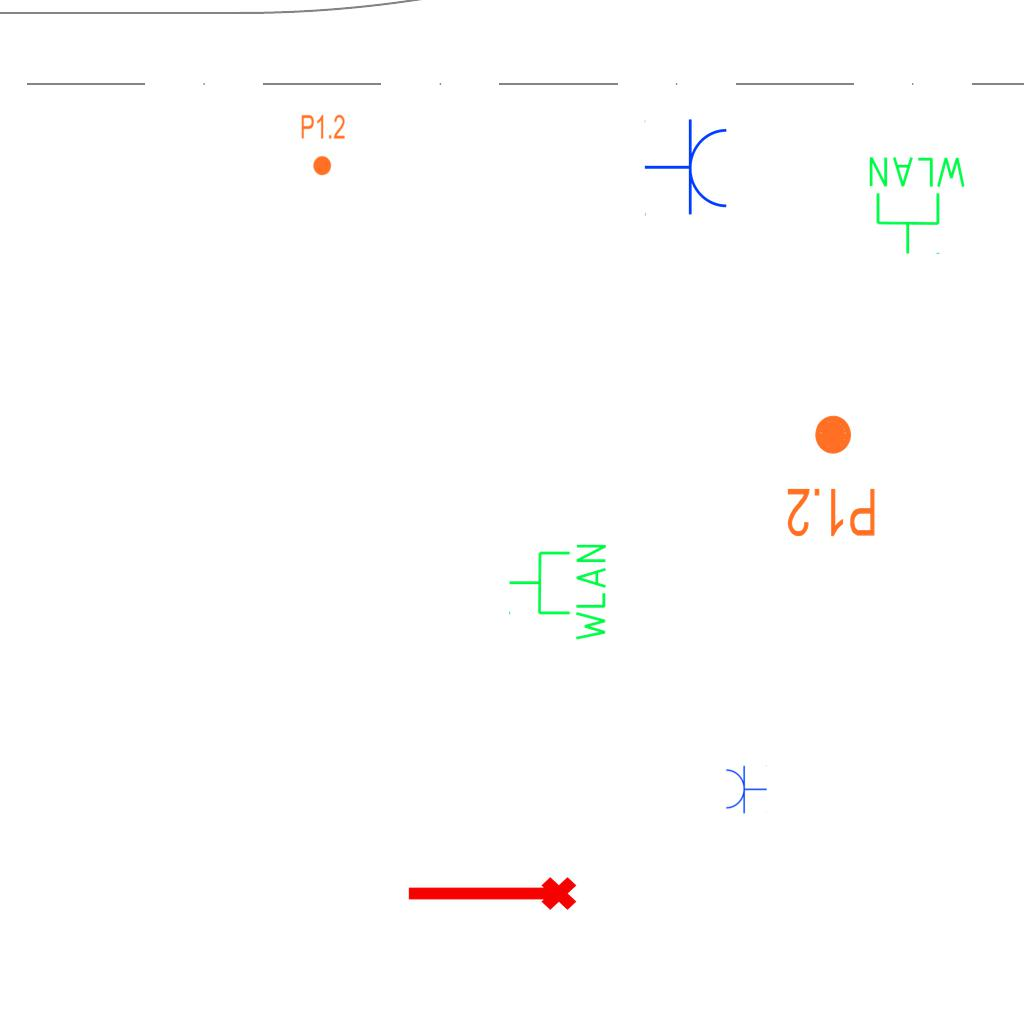ASR_Ansaugoeffnung: (403, 873, 579, 919)
Downlight_LED_Einbauleuchten_Flur: (785, 412, 878, 540), (300, 113, 346, 177)
Schukosteckdose_einfach: (644, 118, 731, 218), (724, 764, 767, 814)
WLAN: (865, 153, 970, 257), (506, 540, 610, 645)
